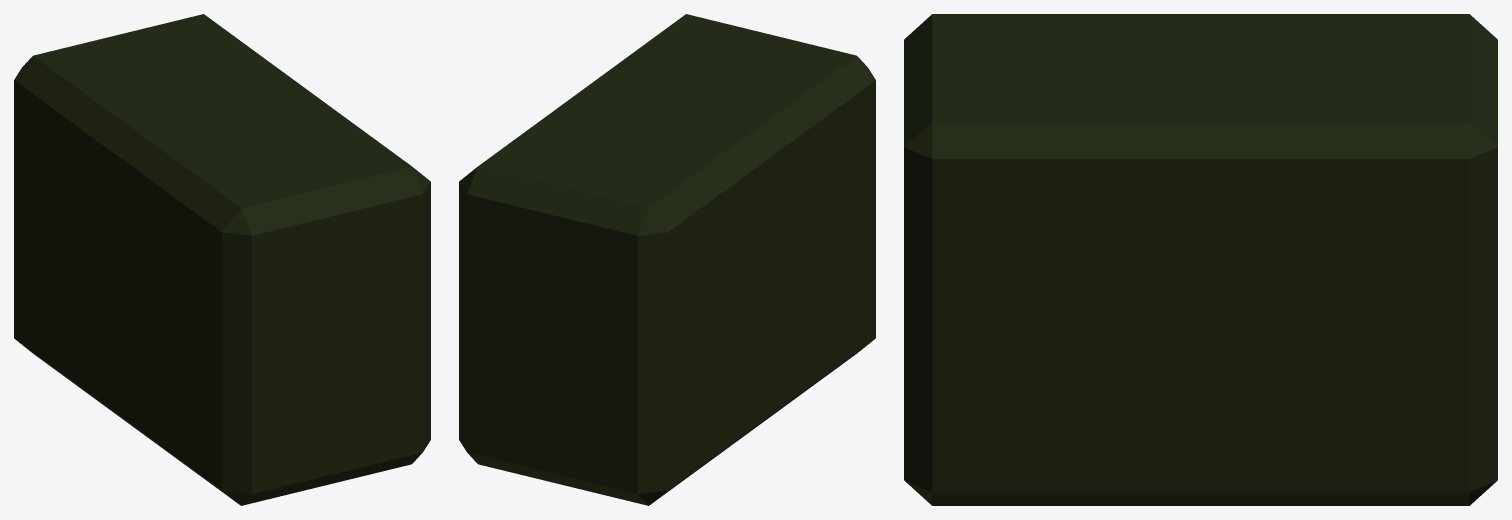
File: Cannon30__FeedBox.obj
3 views of the same model, side by side, from view 1: azimuth 30°, elevation 25°; view 2: azimuth 150°, elevation 25°; view 3: azimuth 270°, elevation 25° (orthographic). The views are drawn at different scales.
Parts seen in each view (by area): view 1: Feed_cassette; view 2: Feed_cassette; view 3: Feed_cassette.
Boxes of the visible parts, x1,y1,x2,y2 form: Feed_cassette: (14,14,430,505); Feed_cassette: (459,14,875,505); Feed_cassette: (904,14,1497,505).
Bounding box in the file's own units: 0.22 × 0.3 × 0.42.
